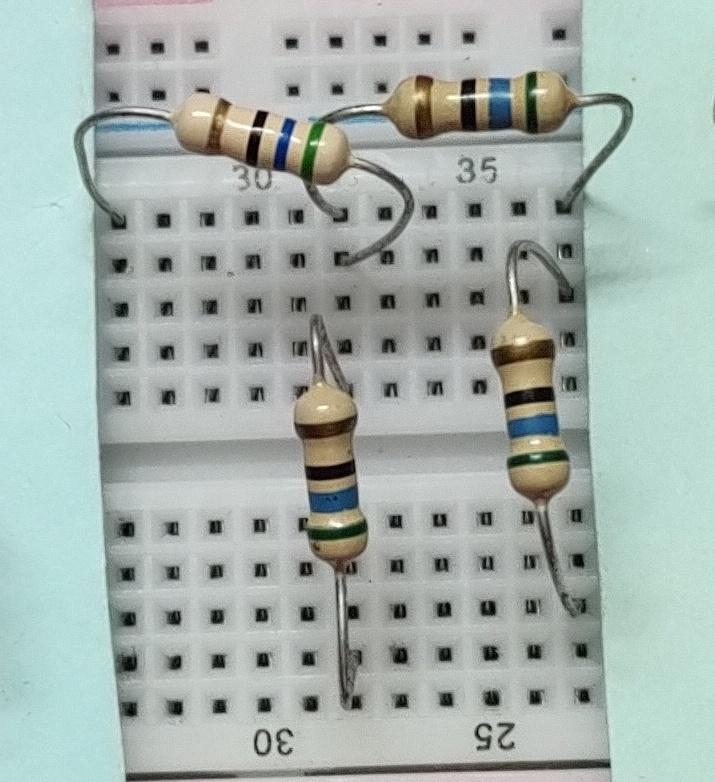resistor: (165, 77, 355, 202), (479, 307, 588, 516), (289, 372, 384, 577), (380, 74, 593, 149)
